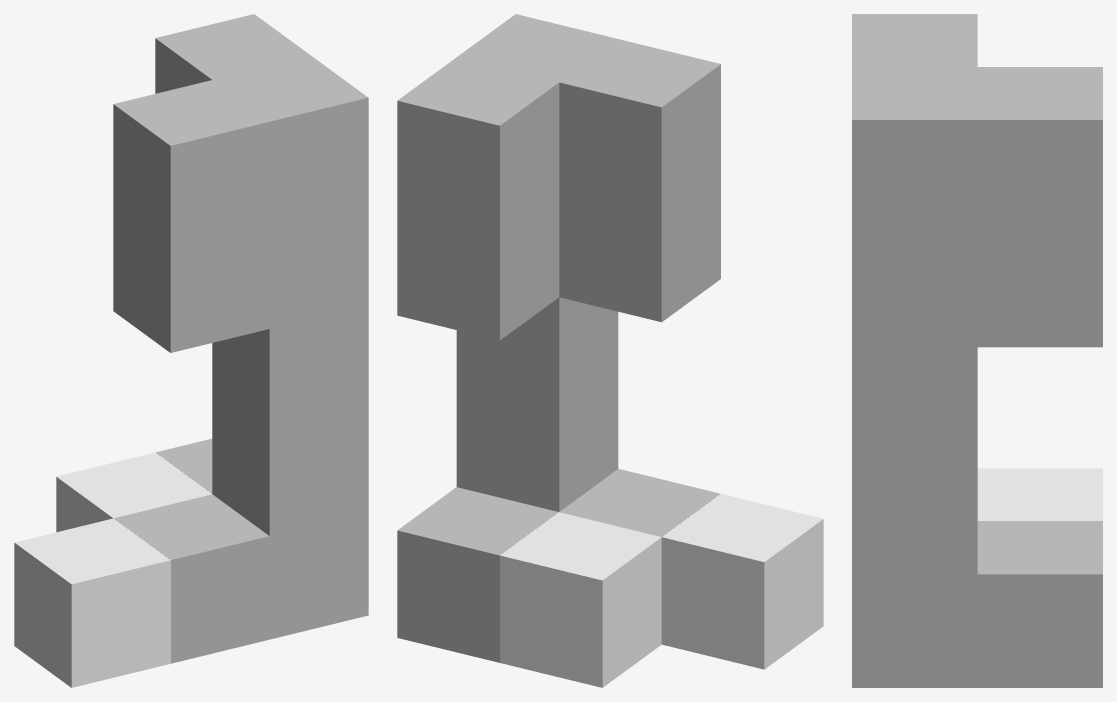
The model's file is SkelLegR.dae.
3 views of the same model, side by side, from view 1: azimuth 30°, elevation 25°; view 2: azimuth 150°, elevation 25°; view 3: azimuth 270°, elevation 25° (orthographic). The views are drawn at different scales.
Visible parts, largest first — view 1: SkelLegR; view 2: SkelLegR; view 3: SkelLegR.
Boxes of the visible parts, <box> form: SkelLegR: <box>14,14,368,687</box>; SkelLegR: <box>397,14,823,687</box>; SkelLegR: <box>852,14,1102,687</box>.
Bounding box in the file's own units: 0.3 × 0.2 × 0.5.
1 material, 1 textured.
